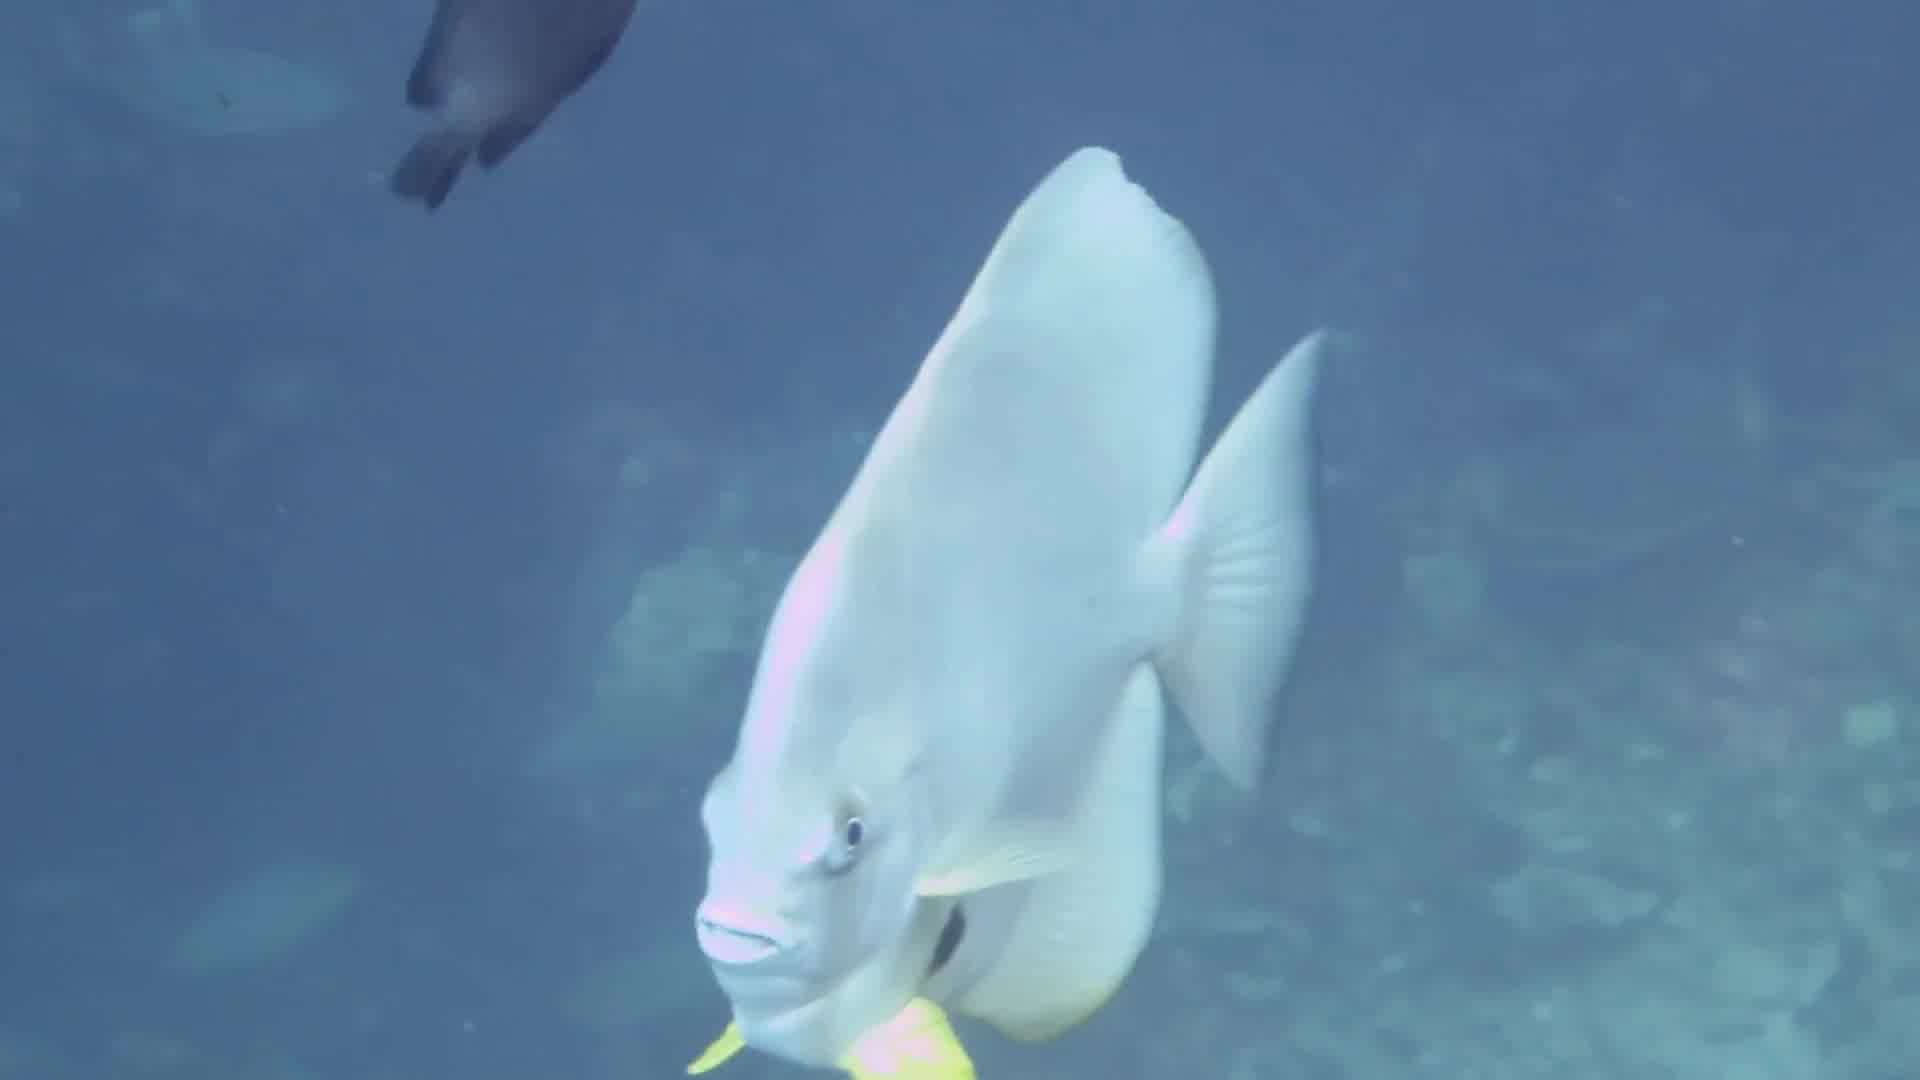Platax teira: (634, 145, 1484, 1080)
